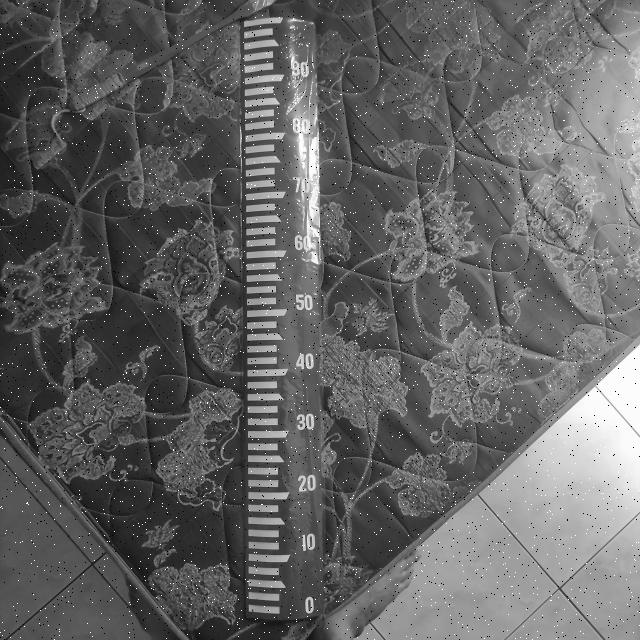10: (300, 532, 317, 554)
20: (298, 474, 316, 495)
30: (296, 413, 314, 431)
40: (296, 352, 315, 371)
50: (295, 293, 314, 312)
60: (294, 234, 312, 251)
70: (291, 176, 310, 194)
80: (292, 117, 310, 135)
90: (291, 61, 310, 78)
staff: (242, 17, 324, 620)
